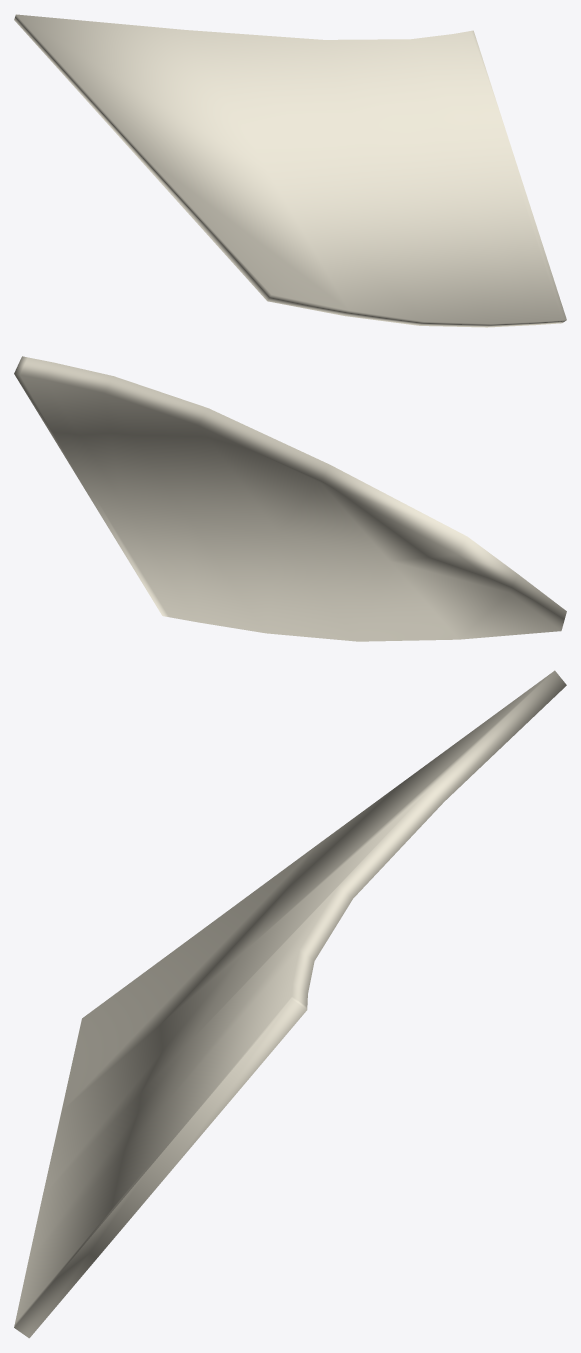
3 renders of one model, top to bottom at view 1: azimuth 30°, elevation 25°; view 2: azimuth 150°, elevation 25°; view 3: azimuth 270°, elevation 25°, orthographic. The views are drawn at different scales.
Visible parts, largest first — view 1: ZA_fe9880256b812b13; view 2: ZA_fe9880256b812b13; view 3: ZA_fe9880256b812b13.
Part boxes in pixels (x1=…): ZA_fe9880256b812b13: x1=14, y1=14, x2=566, y2=327; ZA_fe9880256b812b13: x1=14, y1=356, x2=566, y2=641; ZA_fe9880256b812b13: x1=14, y1=670, x2=566, y2=1338.
Bounding box in the file's own units: 0.0163 × 0.0114 × 0.0142.
